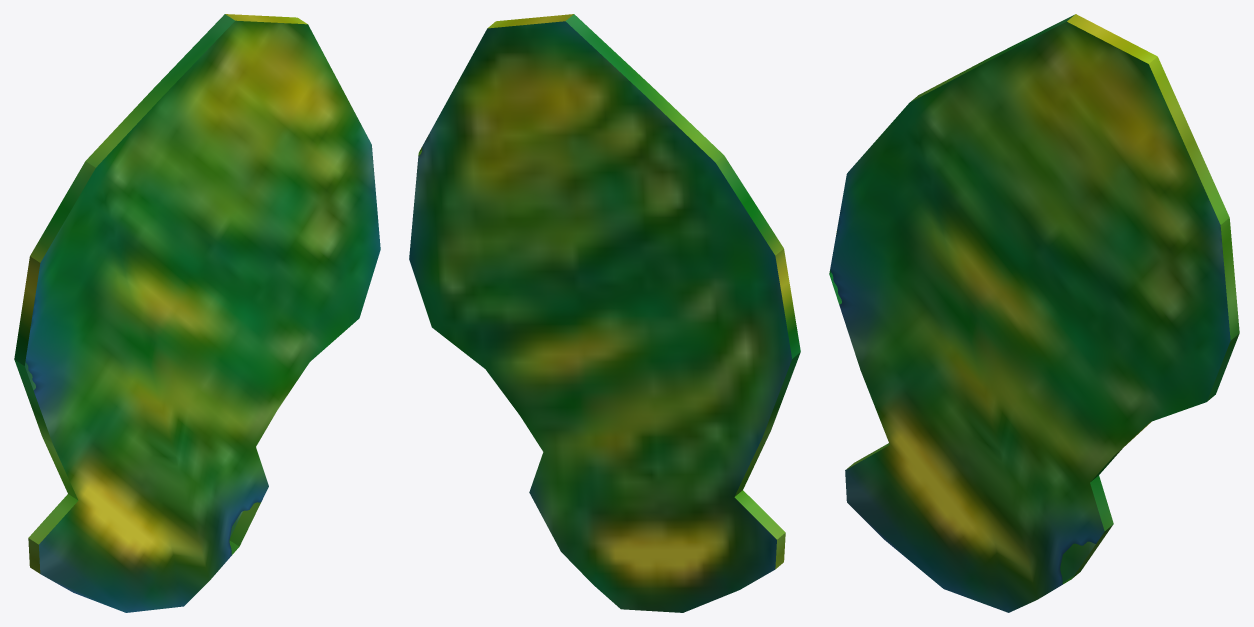
The model's file is Balao2.fbx.
3 renders of one model, left to right at view 1: azimuth 30°, elevation 25°; view 2: azimuth 150°, elevation 25°; view 3: azimuth 330°, elevation 25°, orthographic. The views are drawn at different scales.
Parts seen in each view (by area): view 1: Circle.002; view 2: Circle.002; view 3: Circle.002.
Boxes of the visible parts, <box> form: Circle.002: <box>14,14,380,612</box>; Circle.002: <box>409,14,800,612</box>; Circle.002: <box>829,14,1239,612</box>.
Bounding box in the file's own units: 26.38 × 39.05 × 2.66.
1 material, 1 textured.
